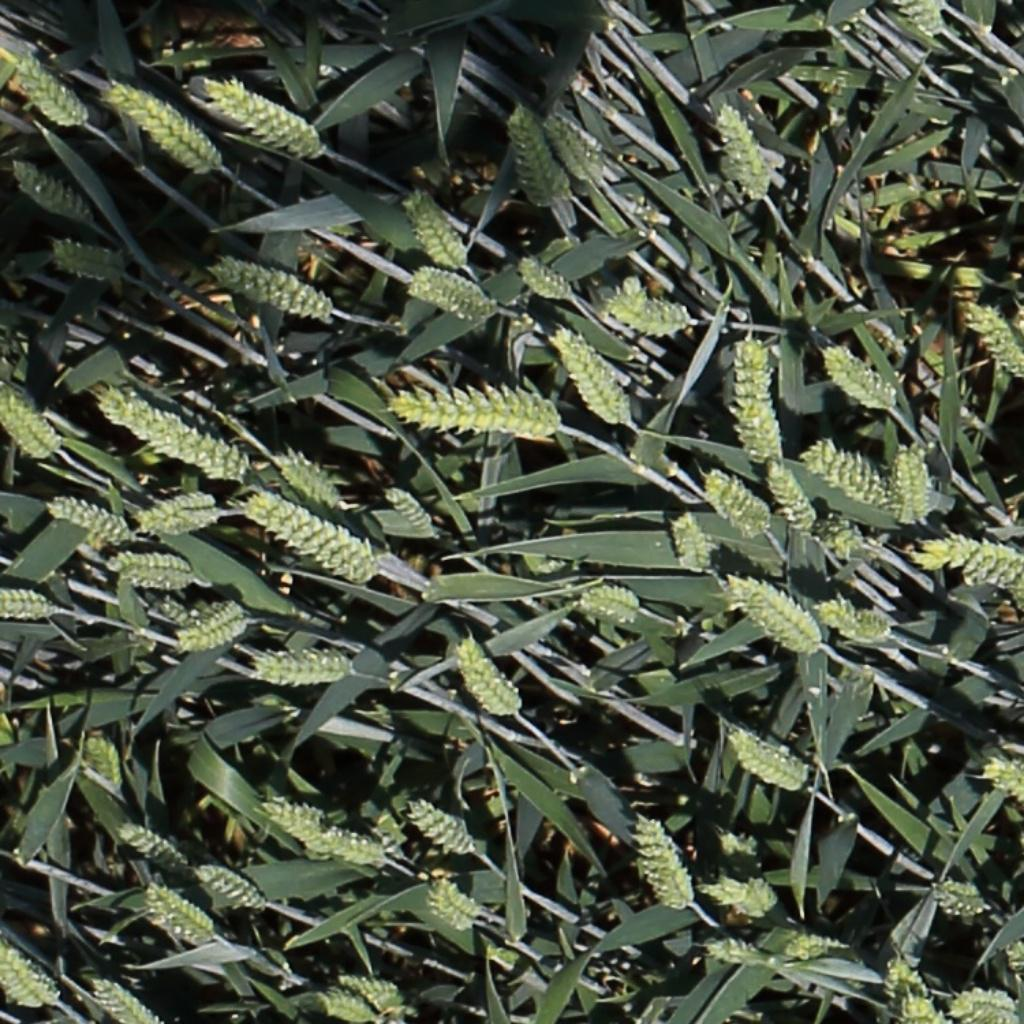0-0: (92, 378, 252, 485), (233, 489, 390, 588), (105, 81, 234, 182), (724, 566, 837, 666), (544, 321, 643, 433), (387, 378, 565, 439), (725, 330, 794, 487), (202, 79, 334, 159), (202, 255, 346, 326), (796, 431, 903, 510), (772, 921, 877, 994), (2, 47, 93, 131), (251, 784, 348, 860), (140, 876, 237, 951), (451, 636, 530, 726), (634, 815, 701, 921), (872, 944, 960, 1024), (906, 525, 1024, 584), (714, 96, 777, 204), (756, 455, 830, 546), (696, 865, 788, 933), (401, 182, 469, 273), (695, 467, 776, 543), (404, 800, 493, 866), (8, 155, 91, 221), (1, 389, 70, 468), (98, 546, 210, 594), (964, 742, 1024, 827), (170, 600, 256, 659), (312, 824, 406, 877), (43, 496, 138, 548), (505, 102, 552, 207), (250, 646, 362, 690), (962, 303, 1024, 382), (38, 230, 126, 285), (823, 344, 897, 409), (817, 594, 898, 652), (887, 433, 936, 528), (804, 507, 886, 563), (540, 110, 599, 187), (133, 490, 232, 535), (727, 733, 805, 790), (711, 821, 770, 896), (378, 480, 446, 544), (161, 599, 240, 654), (183, 855, 261, 910), (424, 877, 492, 940), (602, 298, 703, 340), (86, 974, 167, 1024), (1, 943, 60, 1008), (929, 868, 1002, 920), (271, 450, 334, 507), (114, 826, 185, 873), (406, 279, 487, 320), (669, 506, 716, 574), (409, 270, 490, 309), (578, 583, 649, 626), (79, 730, 121, 798), (315, 986, 388, 1024), (703, 930, 774, 969), (514, 253, 572, 300), (334, 972, 406, 1008), (0, 586, 55, 622), (899, 1, 943, 36)
